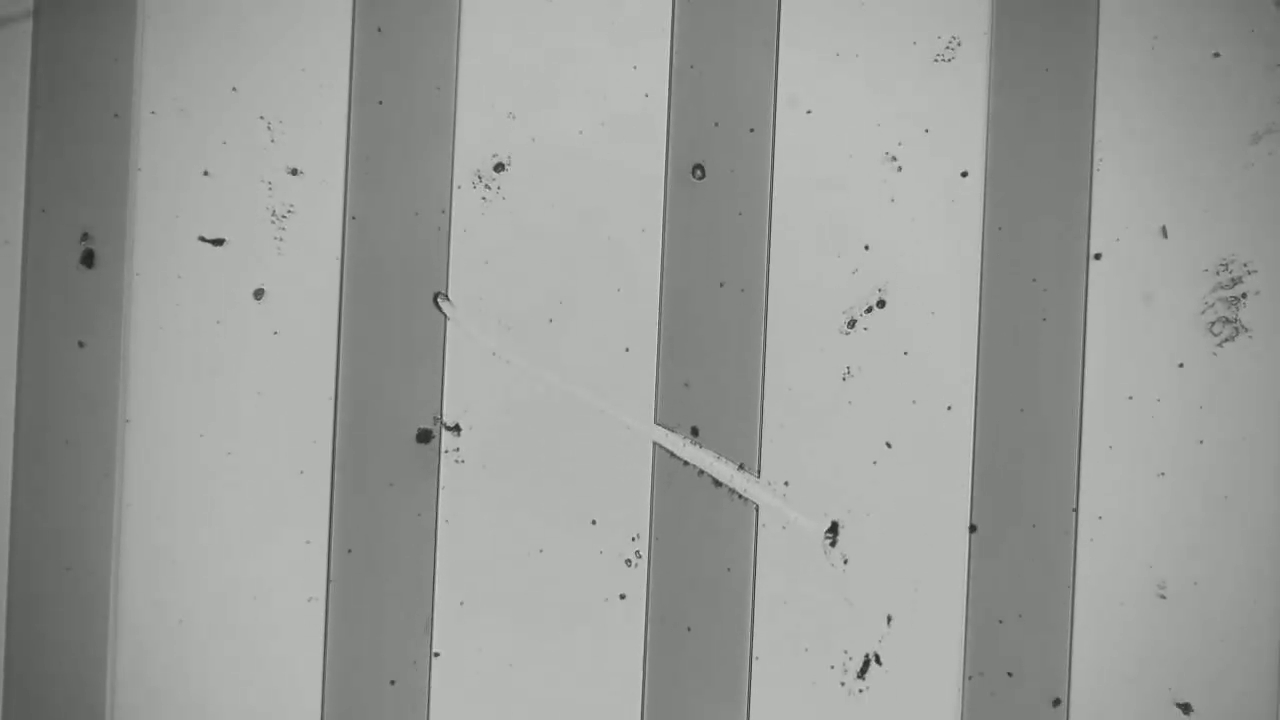Short_circuit: (619, 395, 795, 529)
